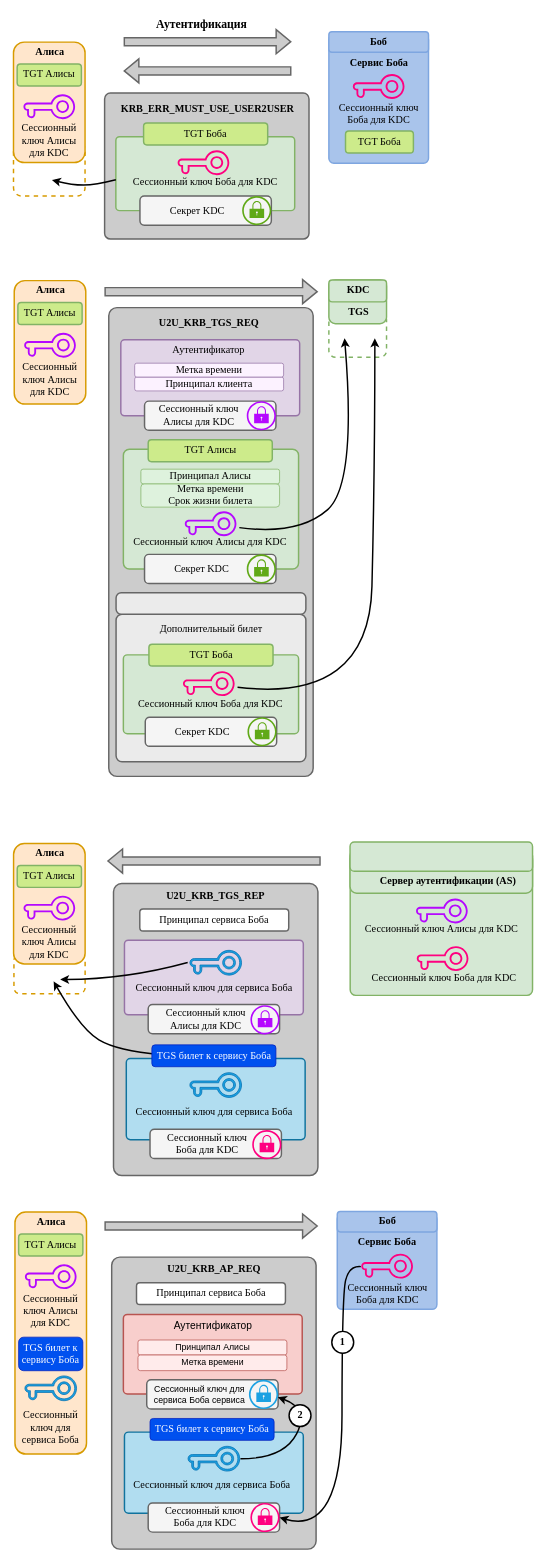
The diagram is 546 pixels wide and 1562 high, and some of its shapes have lost their labels. The centre of each missing label's shape, as x and y in pixels:
Флаг U2U-аутентификации: [210,603]
Центр распределения ключей (KDC): [441,856]
